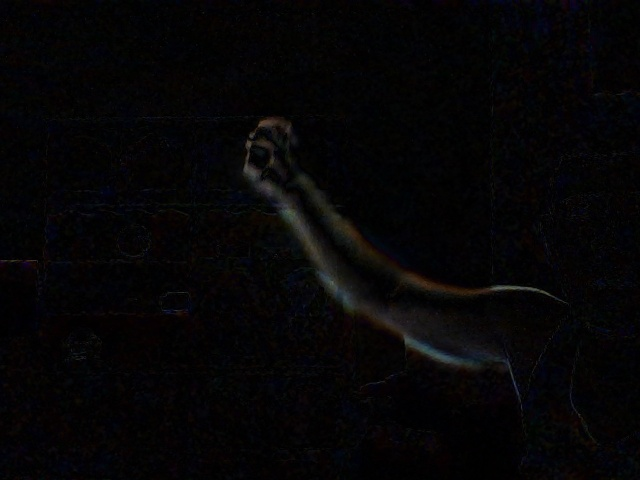hand_fi: (234, 109, 300, 191)
